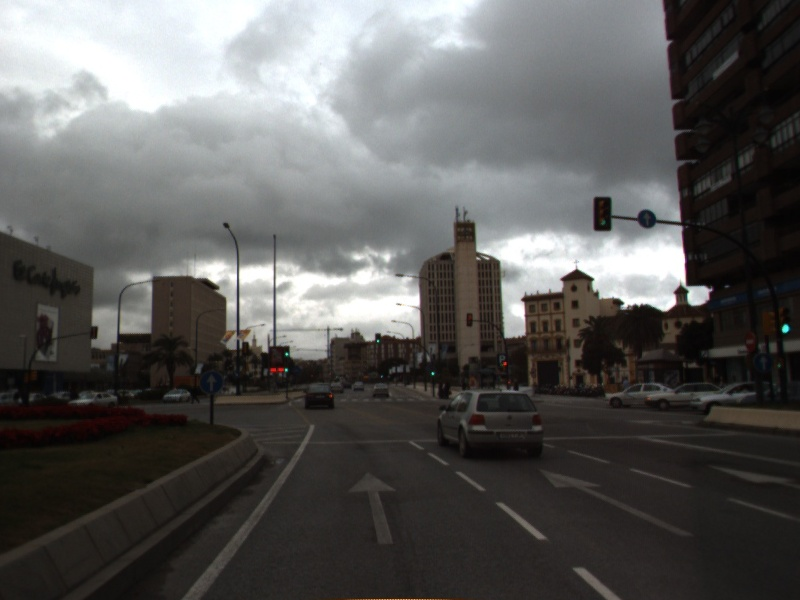STRAIGHT: (537, 467, 696, 539), (346, 468, 400, 547), (706, 463, 800, 492)
